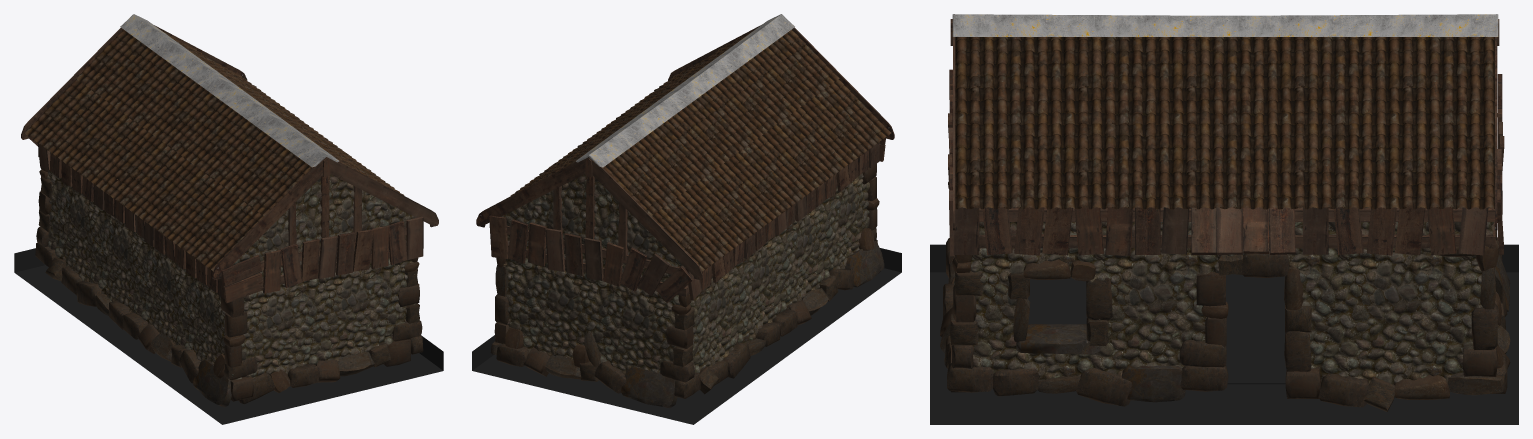
File: free_-_village_house_38_bp5j.glb
3 renders of one model, left to right at view 1: azimuth 30°, elevation 25°; view 2: azimuth 150°, elevation 25°; view 3: azimuth 270°, elevation 25°, orthographic. The views are drawn at different scales.
Parts seen in each view (by area): view 1: Plane001.001, Cube.091, Plane.001, Plane.082, Plane001.003, Plane.080, Plane.081, Cube.149, Plane.227, Plane.079, Plane.229, Plane.244 (+23 smaller); view 2: Plane001.001, Cube.091, Plane.001, Plane.082, Plane001.003, Plane.079, Plane.078, Cube.141, Cube.149, Plane.080, Plane.240, Plane.237 (+23 smaller); view 3: Plane001.003, Cube.091, Plane.001, Plane.082, Cube, Cube.109, Cube.108, Cube.140, Cube.139, Cube.133, Plane.194, Plane.191 (+43 smaller).
Boxes of the visible parts, x1=… form: Plane001.001: x1=24, y1=29, x2=311, y2=271; Cube.091: x1=47, y1=103, x2=415, y2=379; Plane.001: x1=14, y1=248, x2=443, y2=424; Plane.082: x1=120, y1=14, x2=339, y2=167; Plane001.003: x1=161, y1=30, x2=407, y2=197; Plane.080: x1=212, y1=157, x2=325, y2=280; Plane.081: x1=326, y1=157, x2=438, y2=227; Cube.149: x1=193, y1=359, x2=231, y2=407; Plane.227: x1=263, y1=250, x2=281, y2=293; Plane.079: x1=21, y1=28, x2=123, y2=139; Plane.229: x1=336, y1=232, x2=355, y2=275; Plane.244: x1=221, y1=255, x2=261, y2=286; Plane001.001: x1=603, y1=29, x2=891, y2=271; Cube.091: x1=501, y1=173, x2=869, y2=380; Plane.001: x1=472, y1=248, x2=901, y2=424; Plane.082: x1=575, y1=14, x2=794, y2=167; Plane001.003: x1=510, y1=32, x2=751, y2=195; Plane.079: x1=589, y1=157, x2=702, y2=280; Plane.078: x1=476, y1=157, x2=588, y2=227; Cube.141: x1=621, y1=366, x2=677, y2=408; Cube.149: x1=845, y1=241, x2=884, y2=287; Plane.080: x1=792, y1=27, x2=894, y2=139; Plane.240: x1=489, y1=215, x2=508, y2=258; Plane.237: x1=545, y1=228, x2=564, y2=271; Plane001.003: x1=955, y1=37, x2=1494, y2=209; Cube.091: x1=954, y1=207, x2=1494, y2=384; Plane.001: x1=930, y1=244, x2=1518, y2=424; Plane.082: x1=952, y1=14, x2=1498, y2=36; Cube: x1=1028, y1=274, x2=1286, y2=384; Cube.109: x1=979, y1=207, x2=1495, y2=248; Cube.108: x1=1016, y1=324, x2=1100, y2=354; Cube.140: x1=1122, y1=365, x2=1185, y2=402; Cube.139: x1=1076, y1=368, x2=1131, y2=406; Cube.133: x1=1318, y1=373, x2=1368, y2=407; Plane.194: x1=1105, y1=207, x2=1133, y2=255; Plane.191: x1=1014, y1=207, x2=1044, y2=255.
Bounding box in the file's own units: 5.84 × 5.54 × 8.8.
Materials: 6 (5 with a texture image).
